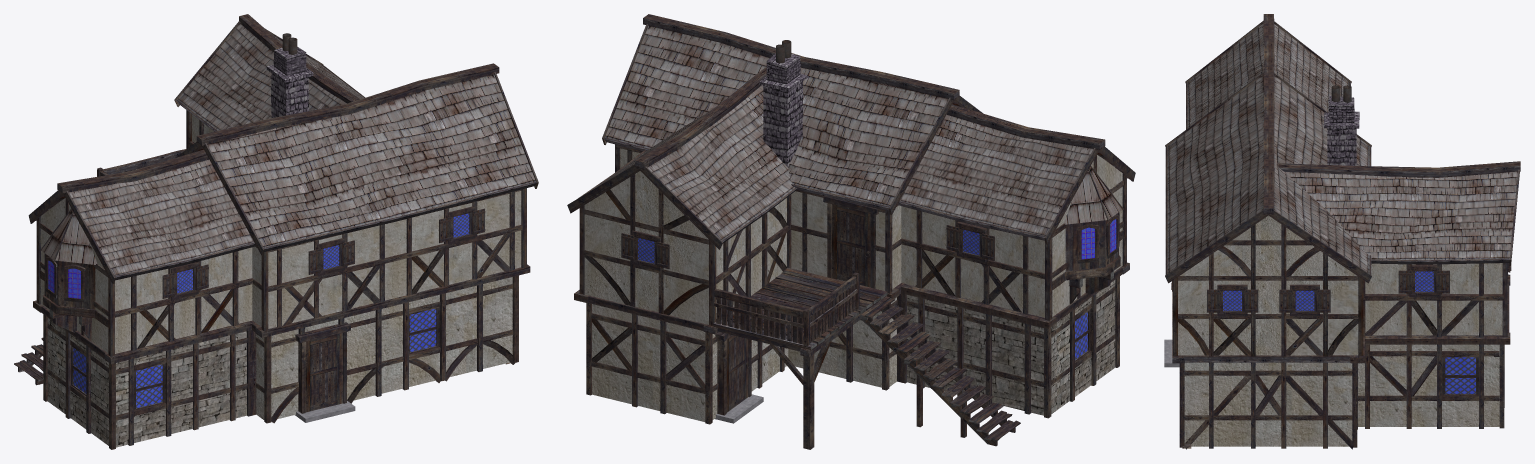
Rendered from medieval_house_02.glb.
The picture shows the model from 3 angles, left to right: view 1: azimuth 30°, elevation 25°; view 2: azimuth 150°, elevation 25°; view 3: azimuth 270°, elevation 25°; orthographic projection. The views are drawn at different scales.
Parts seen in each view (by area): view 1: medieval_house_02; view 2: medieval_house_02; view 3: medieval_house_02.
Boxes of the visible parts, left/top/right/bottom form: medieval_house_02: left=14, top=14, right=538, bottom=449; medieval_house_02: left=567, top=14, right=1135, bottom=449; medieval_house_02: left=1164, top=14, right=1520, bottom=449.
Bounding box in the file's own units: 13.53 × 8.87 × 9.53.
Materials: 12 (12 with a texture image).
